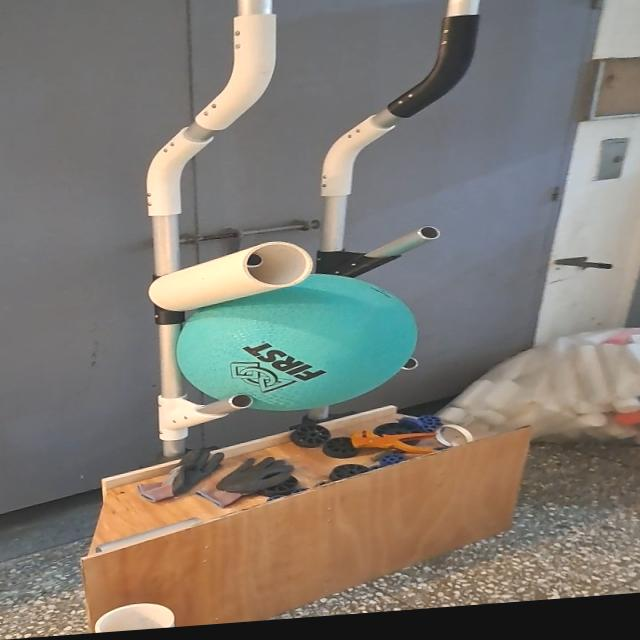ALGAE: (174, 264, 420, 419)
CORAL: (148, 235, 314, 316), (89, 598, 179, 633)
